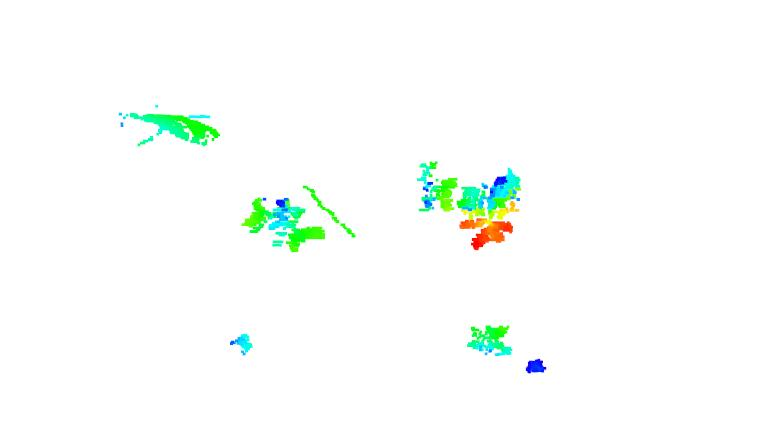chickpea: (413, 155, 523, 248), (241, 193, 329, 258), (463, 318, 520, 358)
